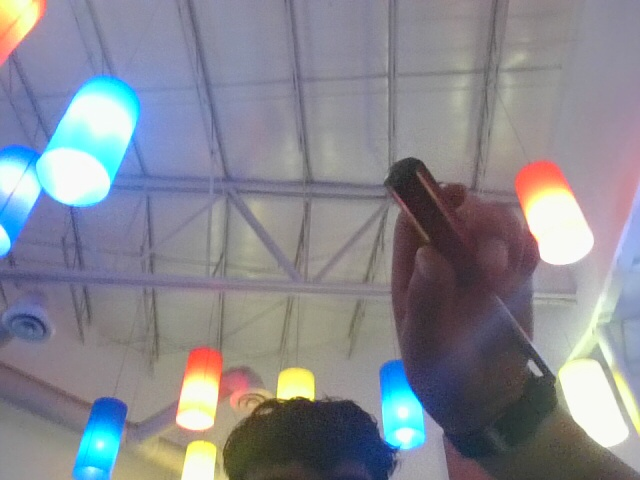destornillador: (378, 151, 640, 479)
